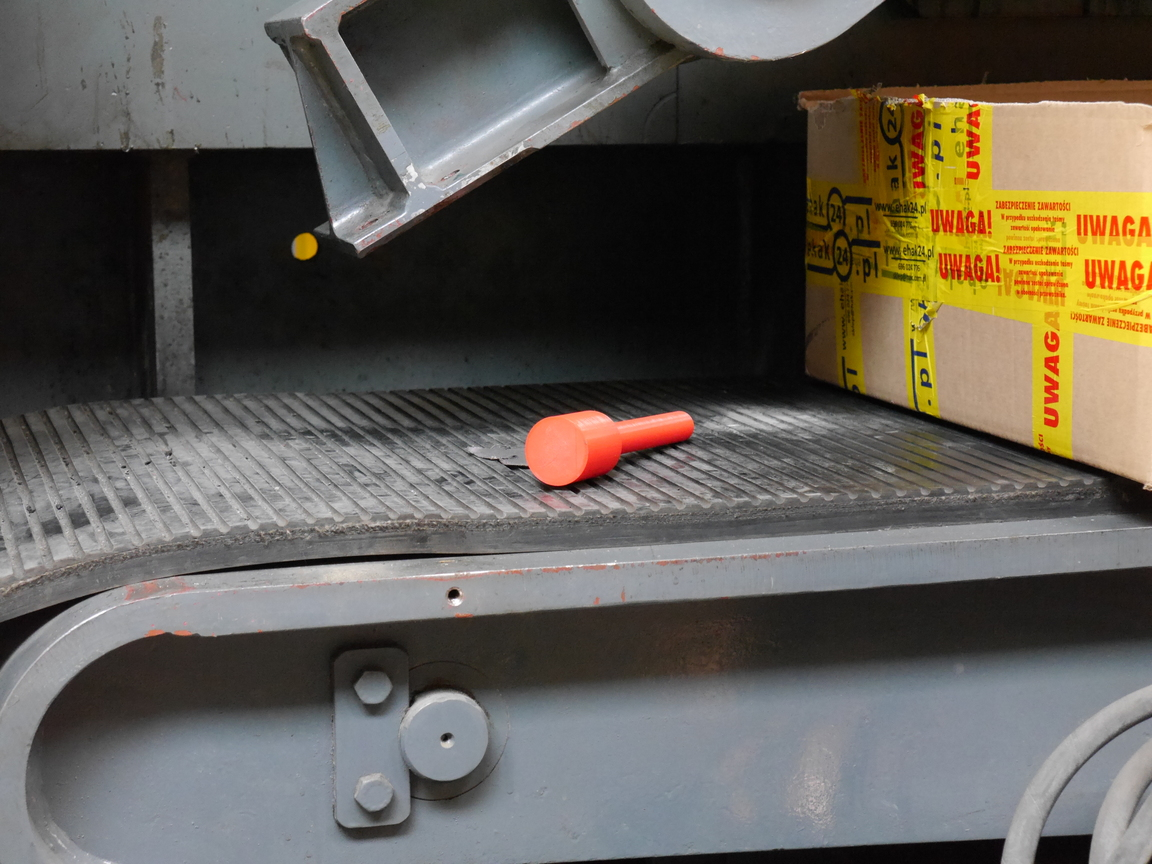cargo_g: (527, 411, 695, 489)
